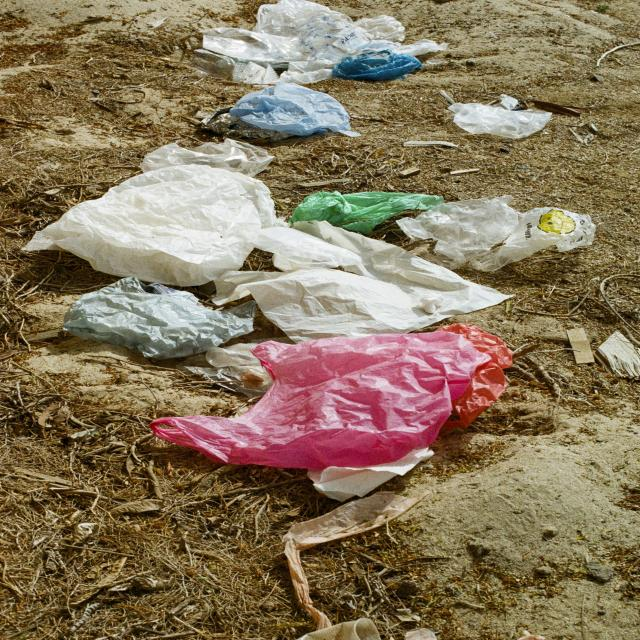plastic_bag: (157, 324, 549, 488)
